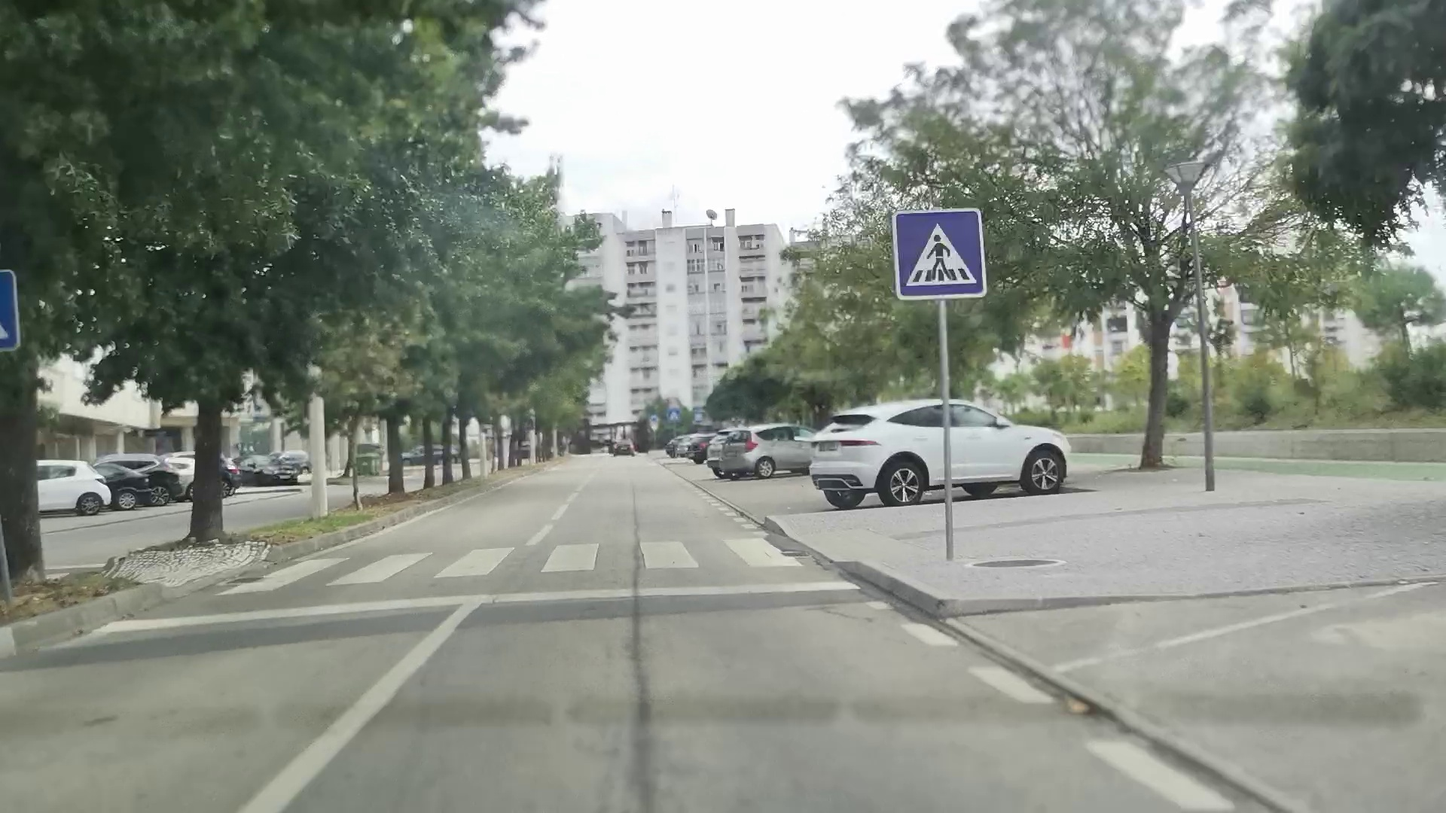Stairs: (208, 533, 806, 596)
